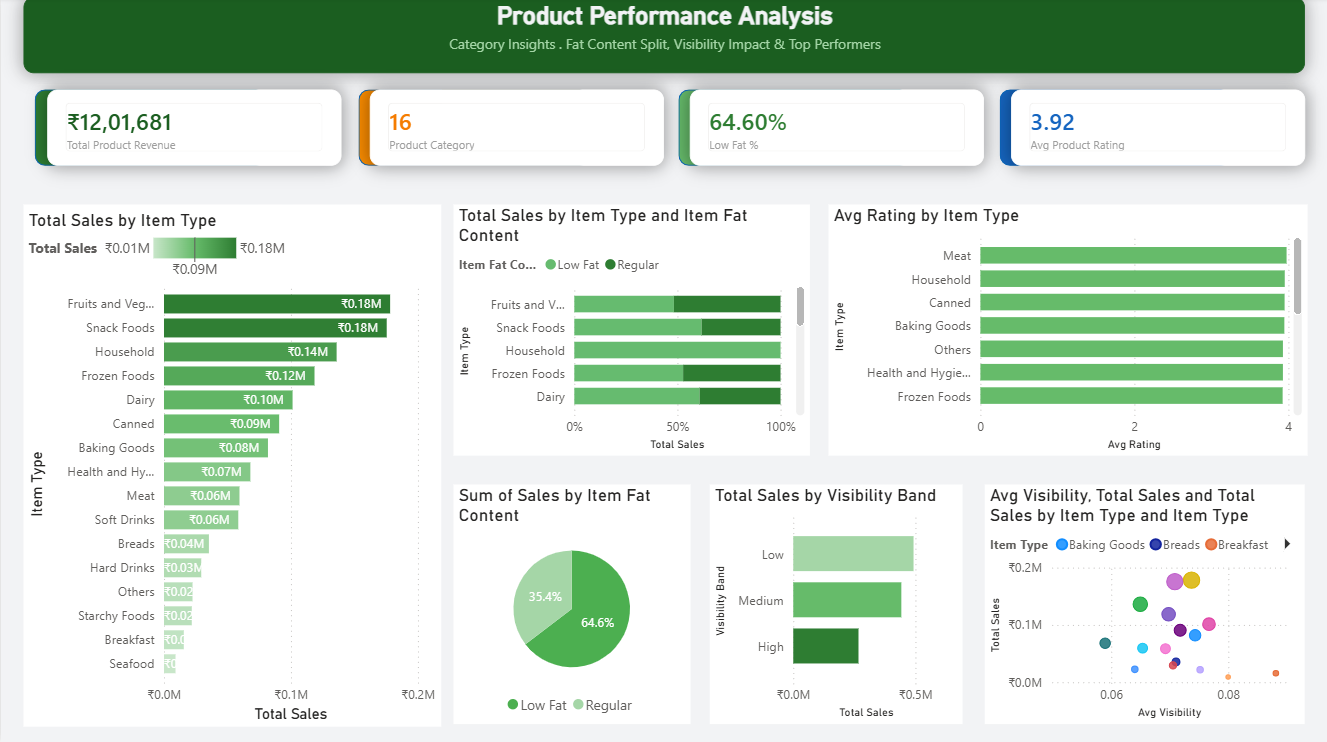

The dashboard page shown, as its layout file describes it:
{"tool":"powerbi","page":{"name":"Product Analysis","canvas":[1280,720],"ordinal":1},"visuals":[{"type":"clusteredBarChart","fields":{"Category":["Items.Item Type"],"Y":["BlinkIT Grocery Data.Total Sales"]},"box":[21.4,200,402.9,504.3],"z":3000},{"type":"hundredPercentStackedBarChart","fields":{"Category":["Items.Item Type"],"Y":["BlinkIT Grocery Data.Total Sales"],"Series":["Items Content.Item Fat Content"]},"box":[436.7,200.3,343.8,242.5],"z":4000},{"type":"clusteredBarChart","fields":{"Category":["Items.Item Type"],"Y":["BlinkIT Grocery Data.Avg Rating"]},"box":[798.7,200.3,462.1,242.5],"z":5000},{"type":"clusteredBarChart","fields":{"Category":["BlinkIT Grocery Data.Visibility Band"],"Y":["BlinkIT Grocery Data.Total Sales"]},"box":[684.3,470,244.3,231.4],"z":6000},{"type":"pieChart","fields":{"Y":["Sum(BlinkIT Grocery Data.Sales)"],"Category":["Items Content.Item Fat Content"]},"box":[437.1,470,228.6,231.4],"z":12000},{"type":"scatterChart","fields":{"X":["BlinkIT Grocery Data.Avg Visibility"],"Size":["BlinkIT Grocery Data.Total Sales"],"Y":["BlinkIT Grocery Data.Total Sales"],"Category":["Items.Item Type"],"Series":["Items.Item Type"]},"box":[949.3,470.3,308.8,230.8],"z":13000},{"type":"shape","title":"Product Performance Analysis","box":[21.7,0,1236.6,73.6],"z":13001},{"type":"shape","box":[33.1,89.5,223.6,73.6],"z":13002},{"type":"cardVisual","fields":{"Data":["BlinkIT Grocery Data.Total Sales"]},"box":[44.6,89.5,284.2,73.6],"z":13003},{"type":"shape","box":[344.7,89.5,223.6,73.6],"z":13004},{"type":"cardVisual","fields":{"Data":["Count(Items.Item Type)"]},"box":[356.3,89.5,284.2,73.6],"z":13005},{"type":"shape","box":[963.7,89.5,223.6,73.6],"z":13006},{"type":"cardVisual","fields":{"Data":["BlinkIT Grocery Data.Avg Rating"]},"box":[975.2,89.5,284.2,73.6],"z":13007},{"type":"shape","box":[653.5,89.5,223.6,73.6],"z":13008},{"type":"cardVisual","fields":{"Data":["BlinkIT Grocery Data.Low Fat %"]},"box":[665,89.5,284.2,73.6],"z":13009}]}

Visuals, with their boxes in screenshot pixels (x1, y1, x2, y2), scaled from the page's 1280x720 canvas onto the 1327x742 screenshot:
clusteredBarChart - Items.Item Type x BlinkIT Grocery Data.Total Sales: 22, 206, 440, 726
hundredPercentStackedBarChart - Items.Item Type x BlinkIT Grocery Data.Total Sales: 453, 206, 809, 456
clusteredBarChart - Items.Item Type x BlinkIT Grocery Data.Avg Rating: 828, 206, 1307, 456
clusteredBarChart - BlinkIT Grocery Data.Visibility Band x BlinkIT Grocery Data.Total Sales: 709, 484, 963, 723
pieChart - Sum(BlinkIT Grocery Data.Sales) x Items Content.Item Fat Content: 453, 484, 690, 723
scatterChart - BlinkIT Grocery Data.Avg Visibility x BlinkIT Grocery Data.Total Sales: 984, 485, 1304, 723
"Product Performance Analysis" shape: 22, 0, 1305, 76
shape: 34, 92, 266, 168
cardVisual - BlinkIT Grocery Data.Total Sales: 46, 92, 341, 168
shape: 357, 92, 589, 168
cardVisual - Count(Items.Item Type): 369, 92, 664, 168
shape: 999, 92, 1231, 168
cardVisual - BlinkIT Grocery Data.Avg Rating: 1011, 92, 1306, 168
shape: 677, 92, 909, 168
cardVisual - BlinkIT Grocery Data.Low Fat %: 689, 92, 984, 168
